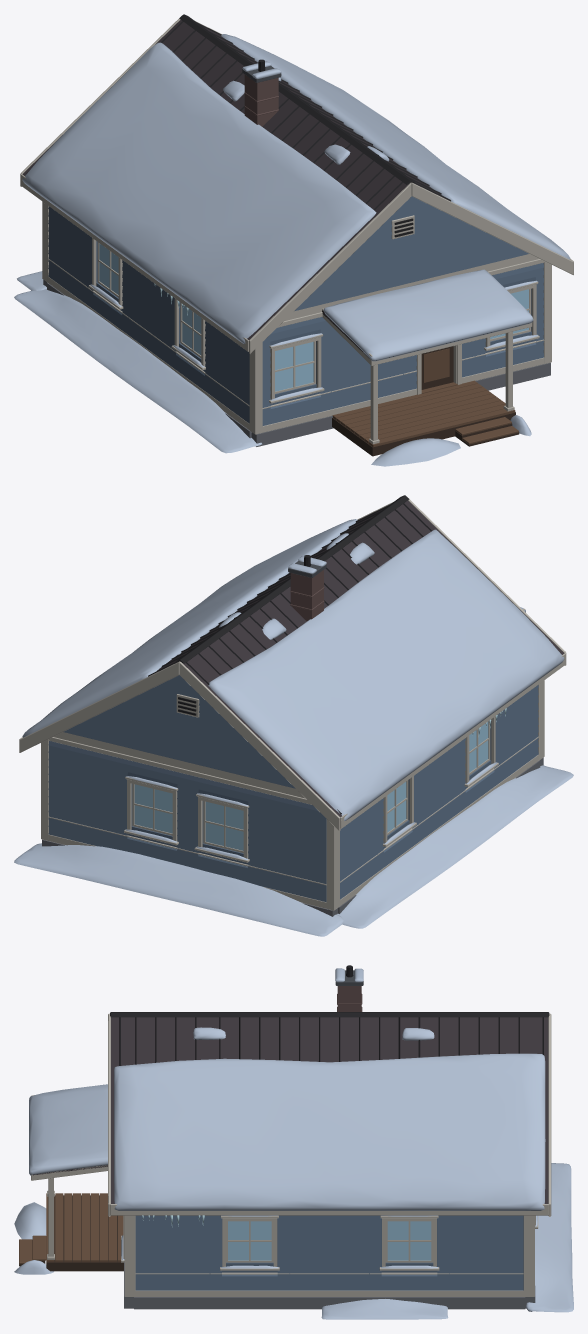
The model's file is house_small_A.glb.
3 views of the same model, one above another, from view 1: azimuth 30°, elevation 25°; view 2: azimuth 150°, elevation 25°; view 3: azimuth 270°, elevation 25° (orthographic). The views are drawn at different scales.
Visible parts, largest first — view 1: Roof, Floor0, Walls0_S, Walls0_W, Window_0, Door_0, Walls0_S_Stub, Window_7, Window_6; view 2: Roof, Walls0_N, Floor0, Walls0_W, Window_3, Window_2, Walls0_N_Stub, Window_7, Window_6; view 3: Roof, Walls0_E, Floor0, Window_5, Window_4, Walls0_E_Stub, Walls0_S, Walls0_N.
Boxes of the visible parts, box(x1,y1,x2,y2) form: Roof: box(20, 14, 573, 365); Floor0: box(14, 271, 550, 466); Walls0_S: box(249, 259, 551, 434); Walls0_W: box(48, 206, 249, 429); Window_0: box(275, 342, 313, 391); Door_0: box(421, 346, 453, 389); Walls0_S_Stub: box(250, 339, 545, 433); Window_7: box(99, 243, 118, 294); Window_6: box(182, 304, 201, 355); Roof: box(19, 495, 566, 830); Walls0_N: box(41, 737, 339, 910); Floor0: box(14, 757, 573, 936); Walls0_W: box(340, 685, 538, 905); Window_3: box(134, 784, 172, 833); Window_2: box(205, 801, 243, 850); Walls0_N_Stub: box(41, 816, 339, 909); Window_7: box(387, 782, 406, 832); Window_6: box(469, 721, 488, 772); Roof: box(29, 965, 551, 1227); Walls0_E: box(135, 1215, 523, 1296); Floor0: box(14, 1163, 573, 1319); Window_5: box(387, 1221, 431, 1260); Window_4: box(228, 1221, 271, 1260); Walls0_E_Stub: box(135, 1272, 523, 1276); Walls0_S: box(121, 1215, 135, 1296); Walls0_N: box(523, 1215, 538, 1296).
Size of what is drawn, in the model's own units: 9.86 by 7.22 by 14.03.
